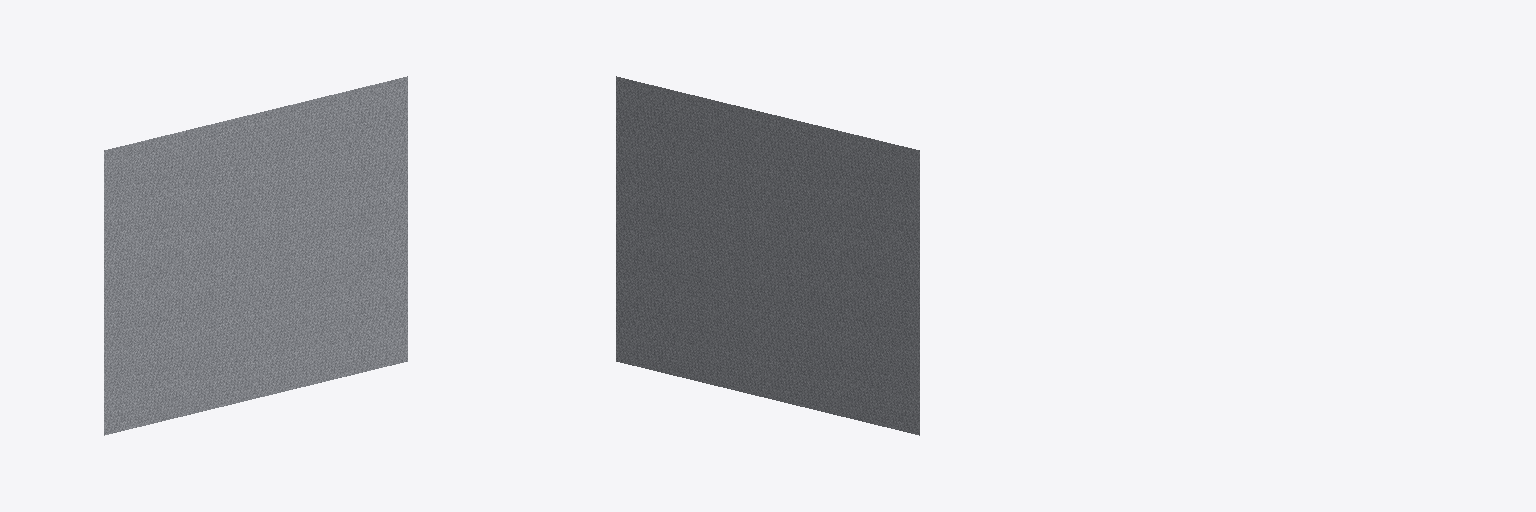
3 renders of one model, left to right at view 1: azimuth 30°, elevation 25°; view 2: azimuth 150°, elevation 25°; view 3: azimuth 270°, elevation 25°, orthographic.
Bounding box in the file's own units: 1129 × 1013 × 0.0003.
Materials: 1 (1 with a texture image).